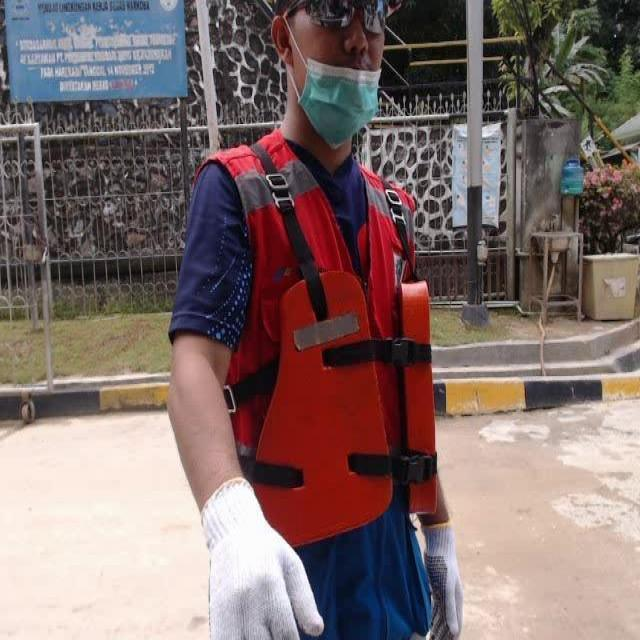vest: (254, 277, 441, 547)
